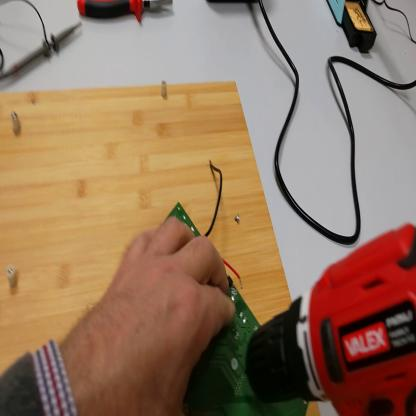electric screwdriver: (241, 224, 416, 414)
hand: (83, 214, 233, 416)
low voltage board: (162, 159, 311, 414)
oscilloscope probe tip: (2, 18, 86, 83)
pliers: (77, 2, 176, 25)
welder base: (327, 2, 380, 59)
welder station: (210, 2, 275, 10)
working area: (2, 74, 323, 416)
